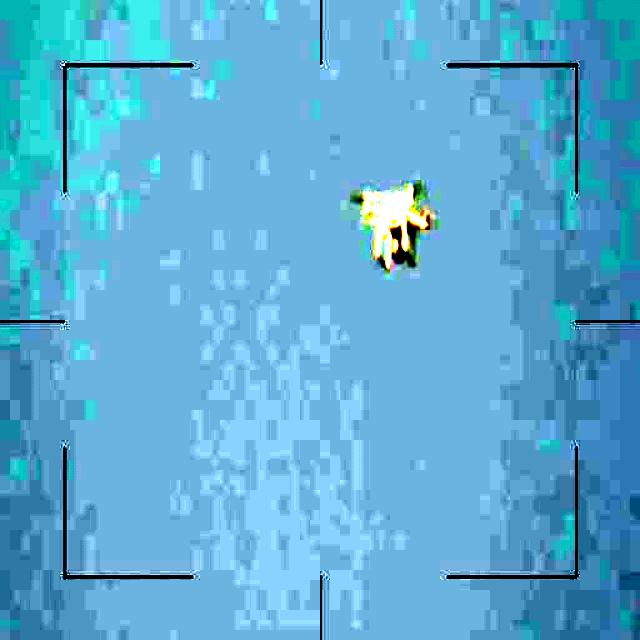bird: (355, 176, 438, 270)
